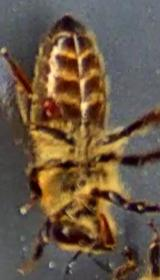varroa_mite: (39, 91, 63, 123)
